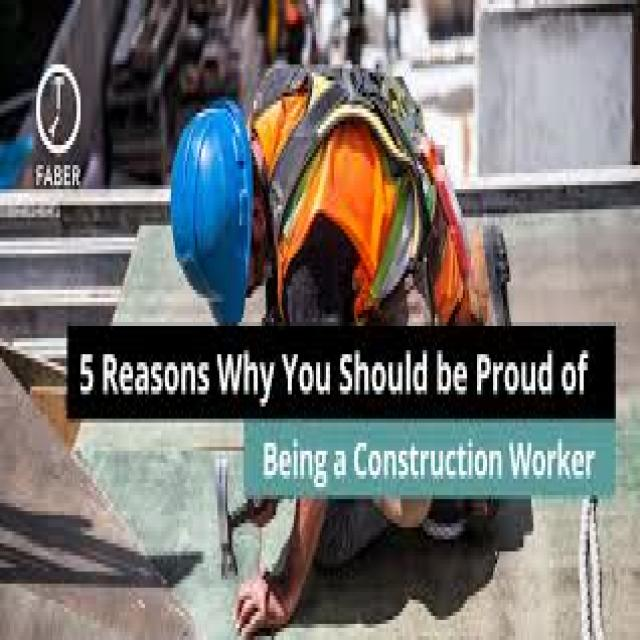Reflective-Jacket: (252, 56, 473, 334)
Safety-Helmet: (166, 93, 269, 331)
